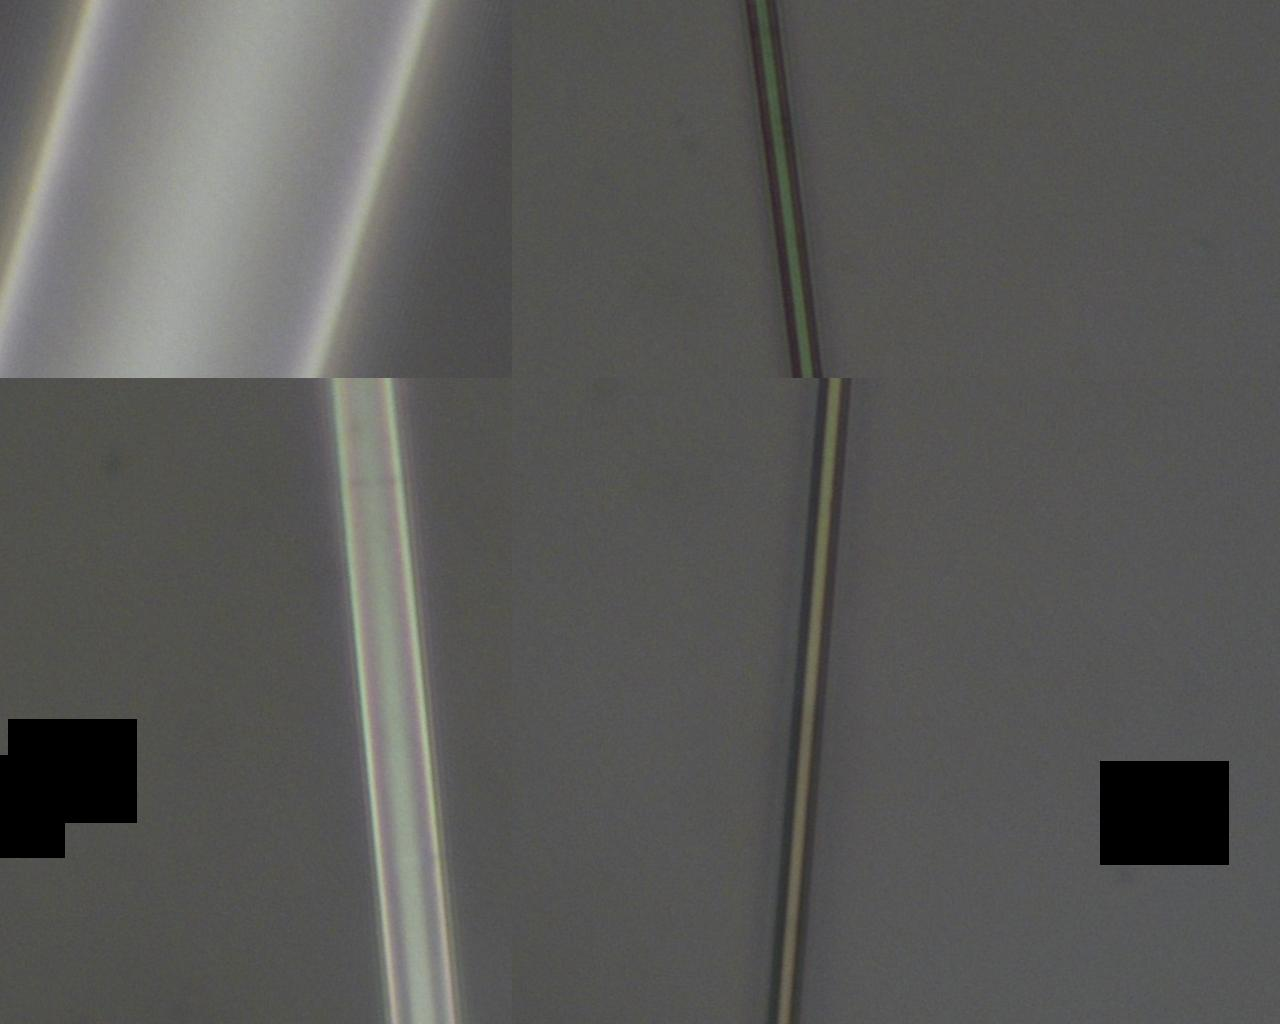fiber: (0, 609, 678, 754), (762, 451, 1280, 506), (514, 237, 610, 430)
